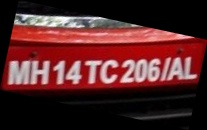character: (7, 59, 30, 85), (29, 59, 49, 86), (99, 58, 118, 84), (64, 59, 82, 86), (84, 60, 102, 84), (166, 56, 184, 80), (119, 58, 135, 83), (52, 59, 65, 86), (147, 58, 161, 82), (184, 56, 198, 80), (135, 58, 146, 82)
